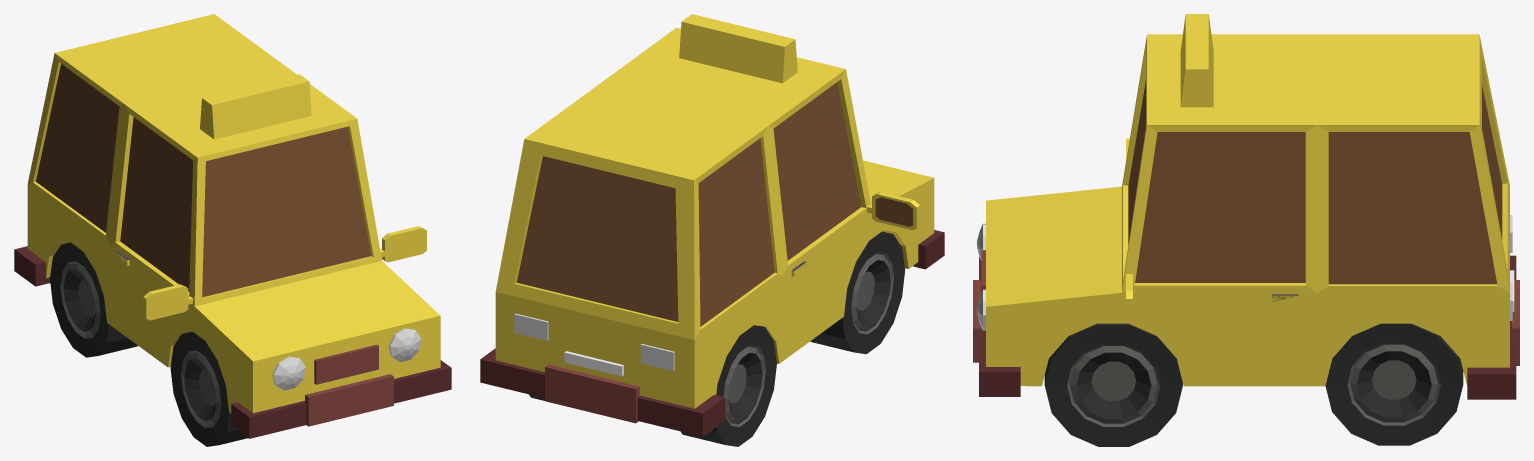
File: mobil taksi.fbx
The picture shows the model from 3 angles, left to right: view 1: azimuth 30°, elevation 25°; view 2: azimuth 150°, elevation 25°; view 3: azimuth 270°, elevation 25°; orthographic projection. The views are drawn at different scales.
Parts seen in each view (by area): view 1: mobil kuning, lampu depan.003; view 2: mobil kuning, lampu merah belakang.002; view 3: mobil kuning.
Part boxes in pixels (x1,y1,x2,y2): mobil kuning: (14,14,451,446); lampu depan.003: (272,328,421,390); mobil kuning: (480,14,944,446); lampu merah belakang.002: (514,313,674,370); mobil kuning: (973,14,1519,446).
Size of the model in its own units: 419 by 433 by 608.
